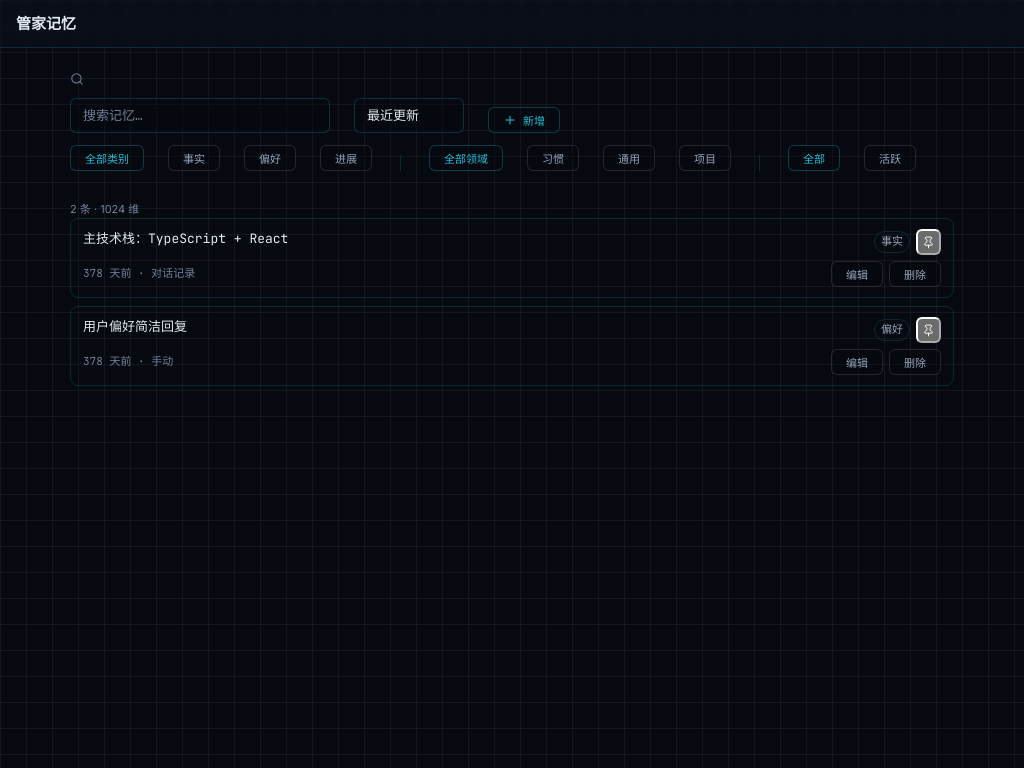
it: 管家记忆独立页（B2-④） › 行内编辑：进入编辑态 → 保存 sendStewardMemoryUpdate + 向量化中态 → 新清单清态
Click the button "编辑" in the row of "手动".
click(857, 362)  # box [831,349,883,375]
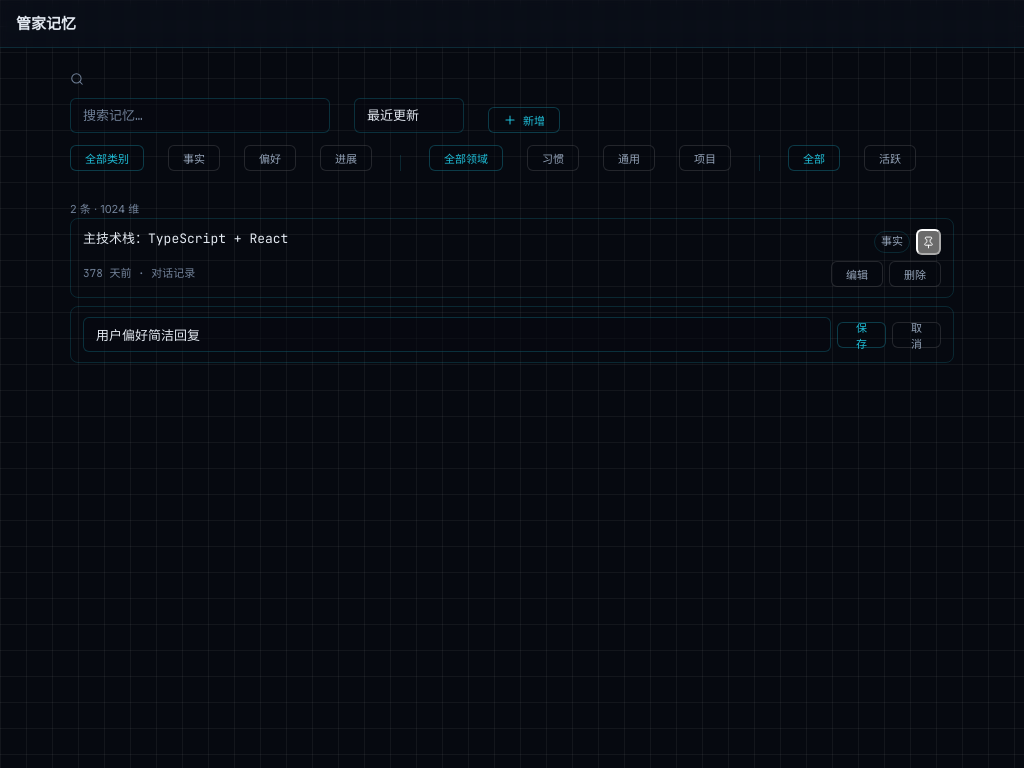
Expected: the 2nd field holds "用户偏好简洁回复"
Replace the text in the 2nd field with "改写后的记忆" at (457,335), box [83,317,831,352]
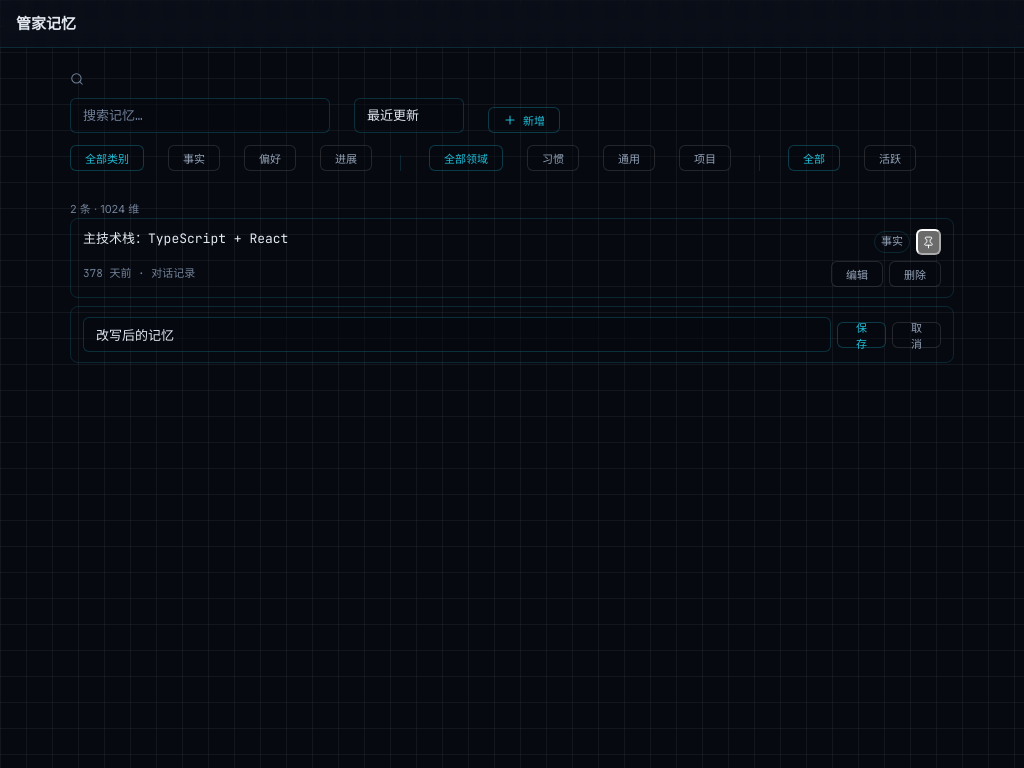
Click the button "保存".
click(861, 335)  # box [837,322,886,348]
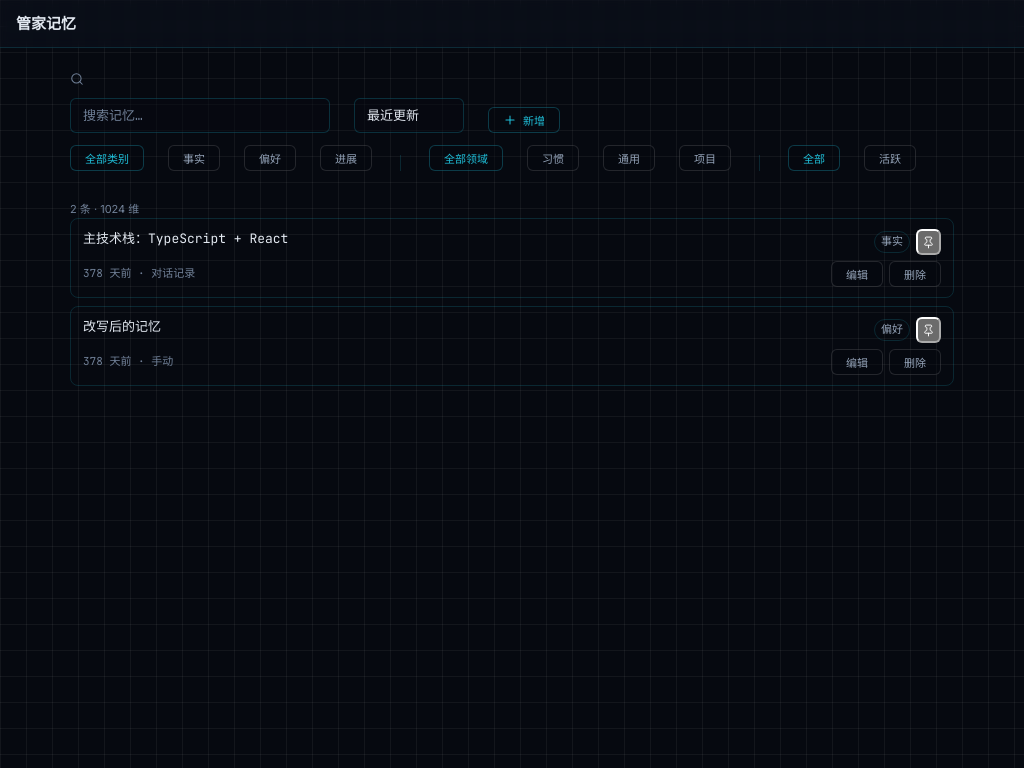
Expected: the text "改写后的记忆" is shown, [83,318,161,335]
